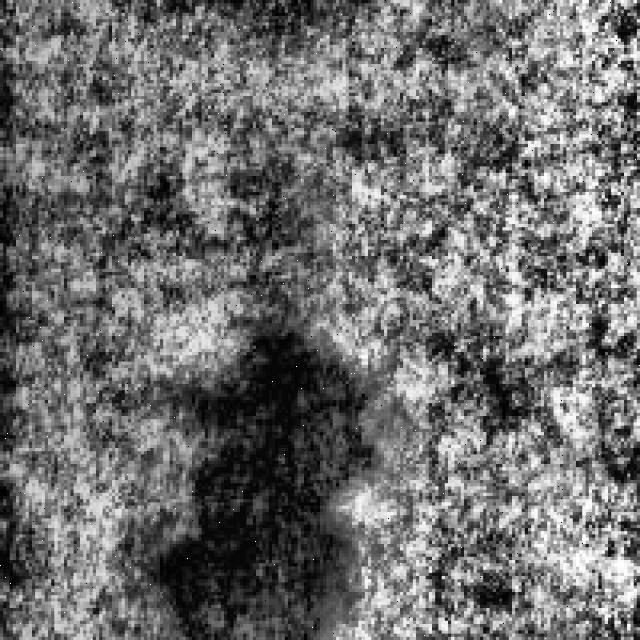Scratches: (144, 304, 387, 637)
